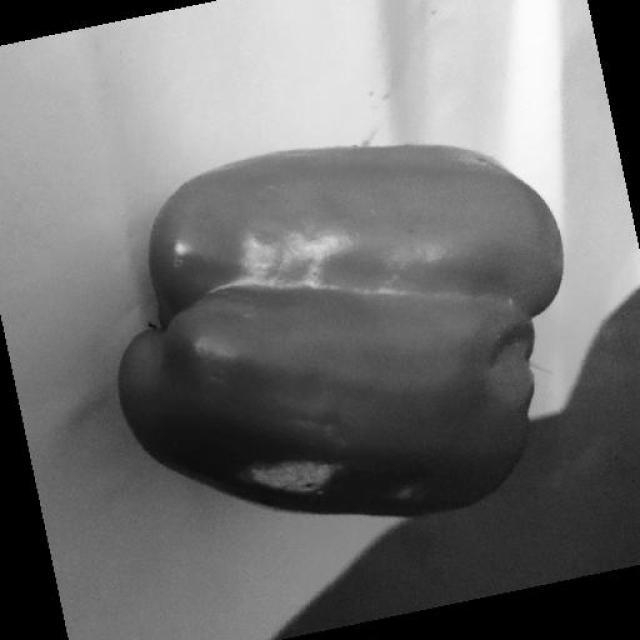Stale_Capsicum: (146, 132, 543, 541)
